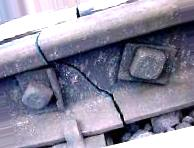tracks_fault: (24, 5, 127, 134)
